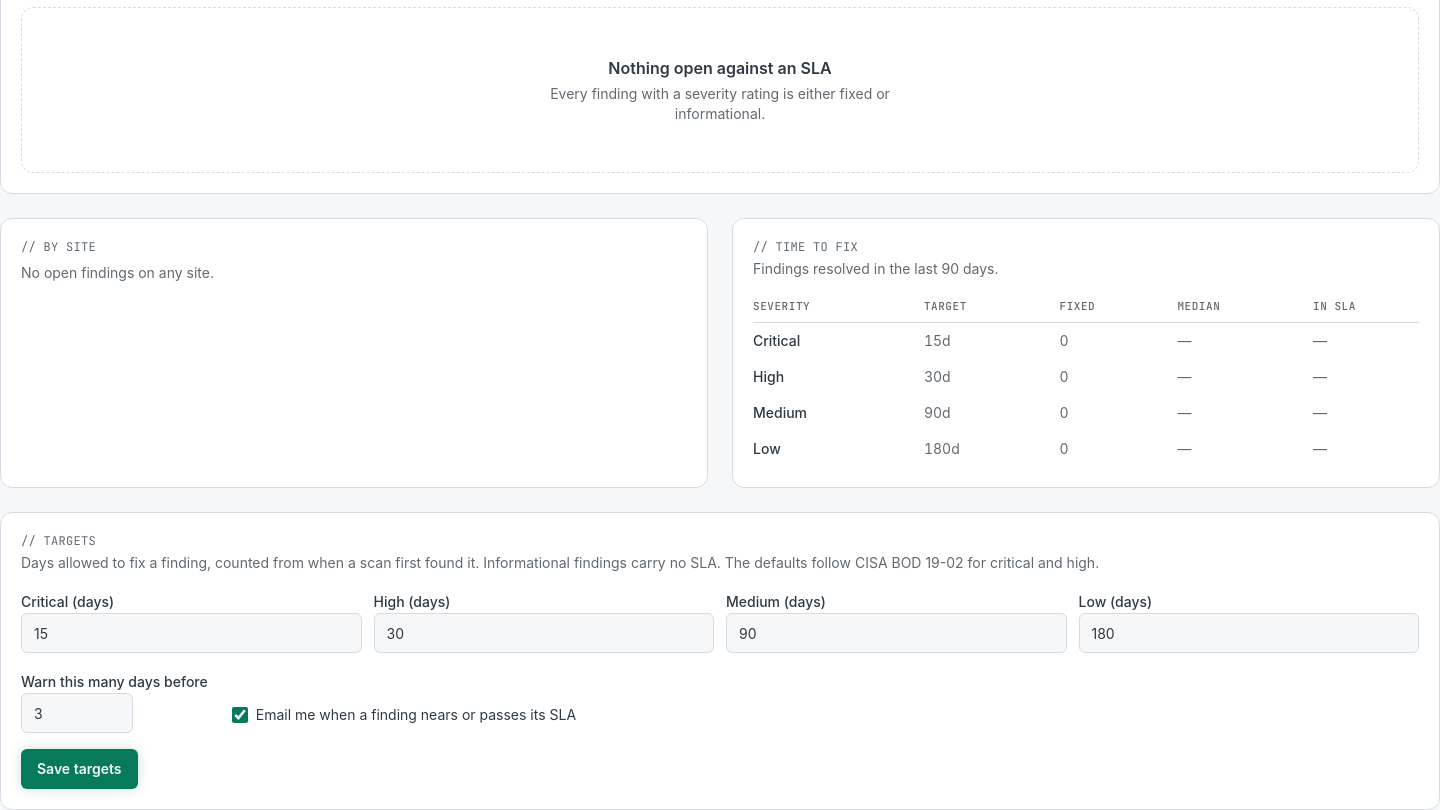
Test case: SlaDashboard › shows the server's error when saving fails
The width and height of the screenshot is (1440, 810).
(page scrolled)
What coordinates should you click on to do the following:
click the button "Save targets"
I would click on:
 (79, 769)
Its box is [21,749,138,789].
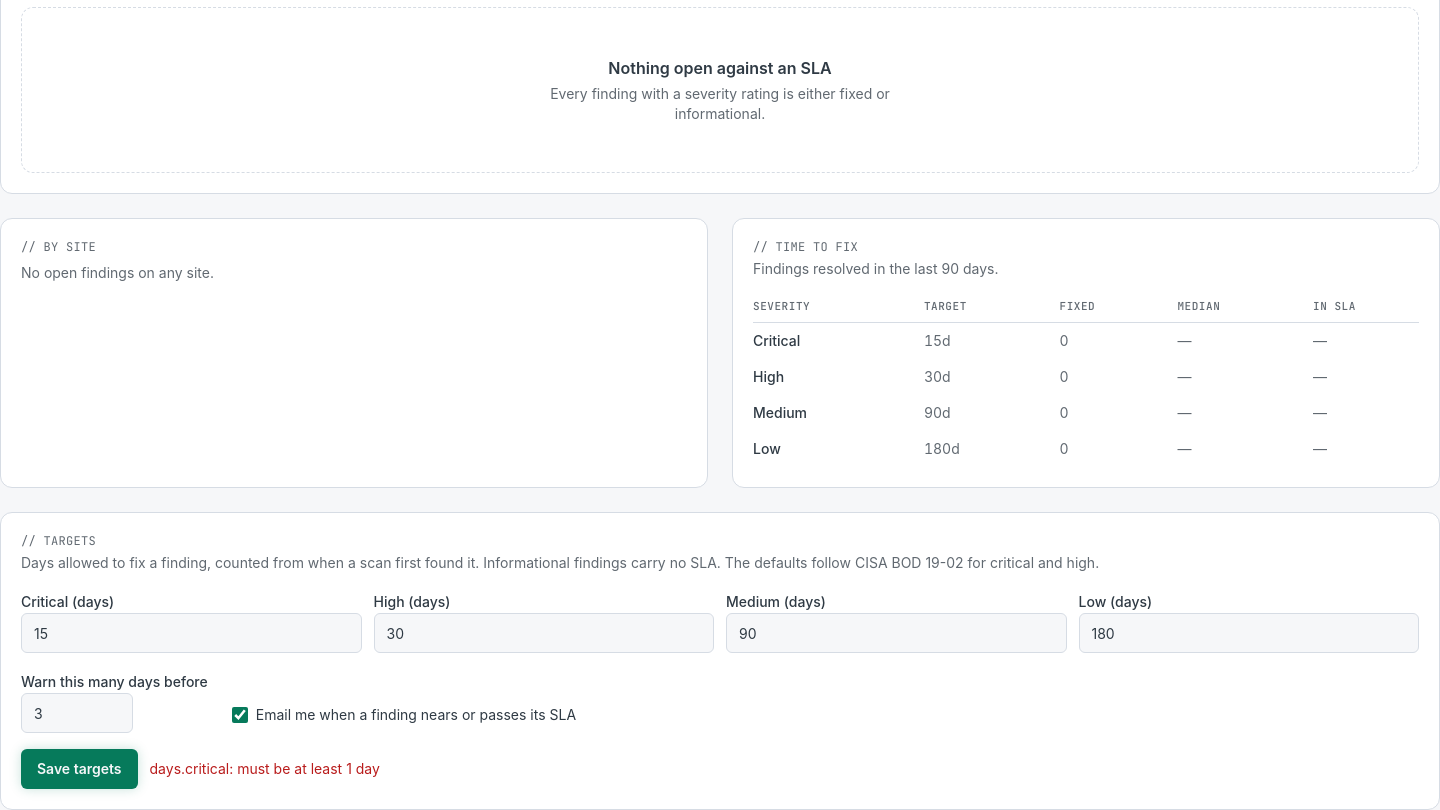
Expected: the message shows "must be at least 1 day", [150,760,380,777]
